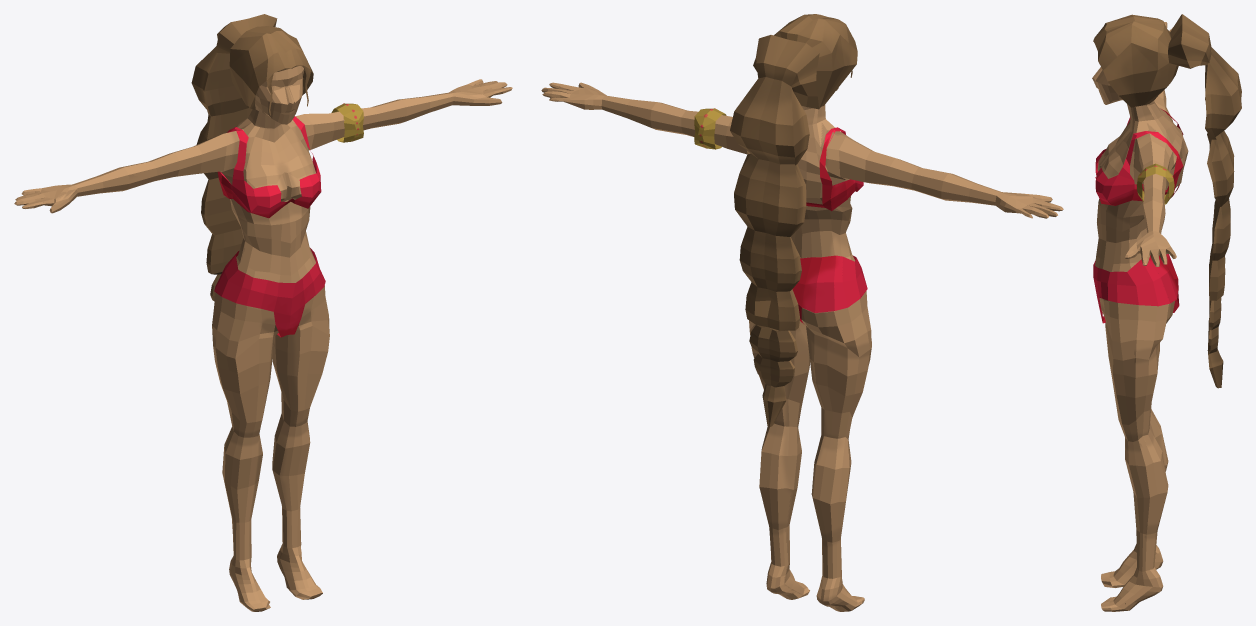
Rendered from MC_PoolSkin.fbx.
3 views of the same model, side by side, from view 1: azimuth 30°, elevation 25°; view 2: azimuth 150°, elevation 25°; view 3: azimuth 270°, elevation 25° (orthographic). The views are drawn at different scales.
Visible parts, largest first — view 1: Body, Haare, Hose, bikini, armband; view 2: Body, Haare, Hose, bikini, armband; view 3: Body, Haare, Hose, bikini, armband.
Boxes of the visible parts, x1,y1,x2,y2 form: Body: (14, 66, 512, 611); Haare: (191, 14, 313, 301); Hose: (214, 248, 325, 337); bikini: (217, 116, 321, 218); armband: (331, 103, 363, 142); Body: (541, 82, 1063, 611); Haare: (730, 14, 857, 426); Hose: (792, 255, 867, 323); bikini: (806, 127, 863, 211); armband: (694, 108, 726, 149); Body: (1092, 22, 1188, 611); Haare: (1093, 14, 1241, 388); Hose: (1093, 254, 1179, 323); bikini: (1095, 109, 1183, 205); armband: (1136, 163, 1174, 204).
Bounding box in the file's own units: 310 × 339 × 79.84.
5 materials, 5 textured.
